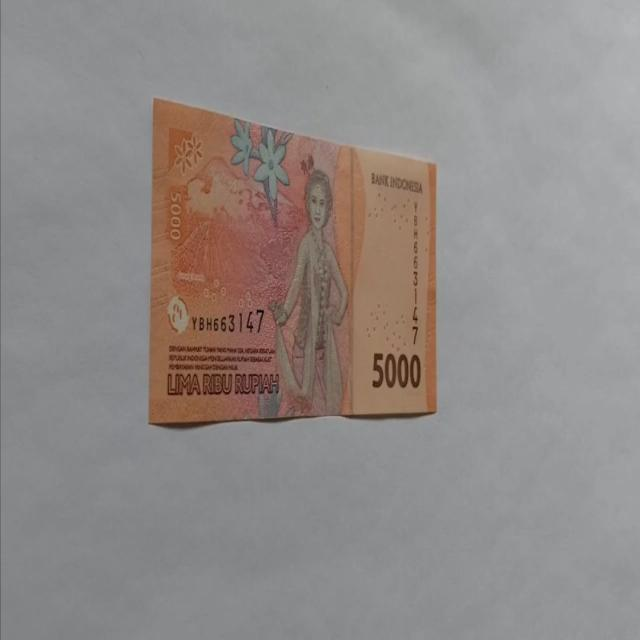lima ribu rupiah: (148, 96, 438, 427), (266, 168, 350, 417)
